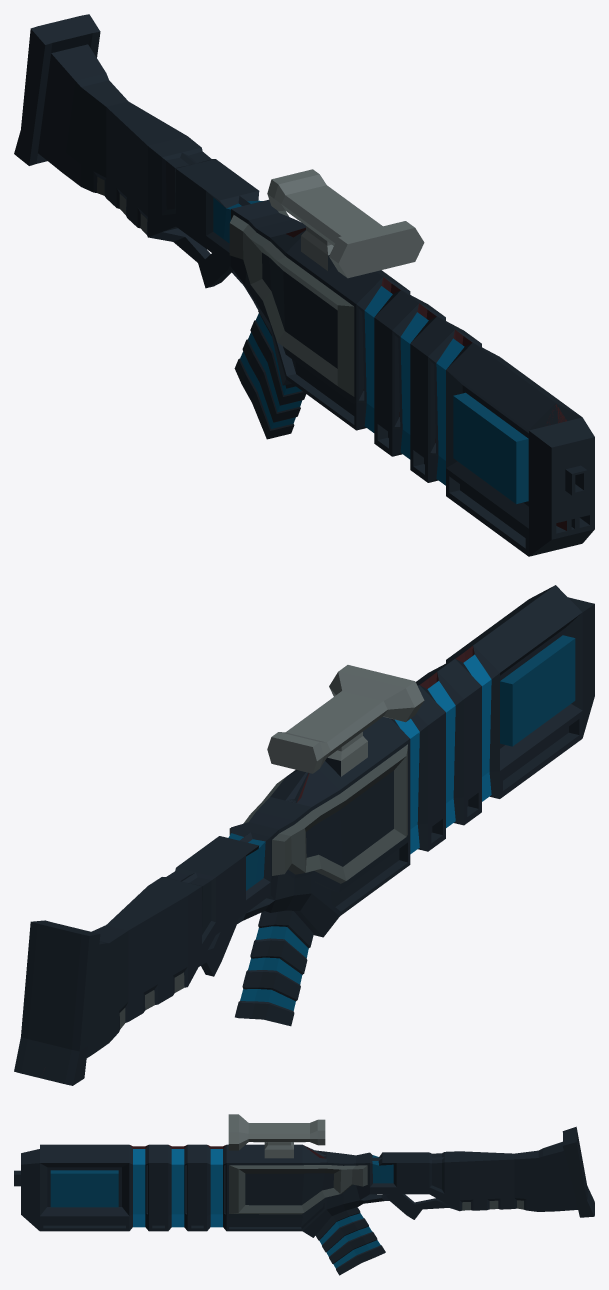
The model's file is Gun1.fbx.
3 renders of one model, top to bottom at view 1: azimuth 30°, elevation 25°; view 2: azimuth 150°, elevation 25°; view 3: azimuth 270°, elevation 25°, orthographic. The views are drawn at different scales.
Parts seen in each view (by area): view 1: Cube; view 2: Cube; view 3: Cube.
Boxes of the visible parts, x1,y1,x2,y2 form: Cube: (14, 14, 594, 556); Cube: (14, 585, 594, 1085); Cube: (14, 1114, 594, 1275).
Size of the model in its own units: 197 by 602 by 2126.
1 material, 1 textured.
